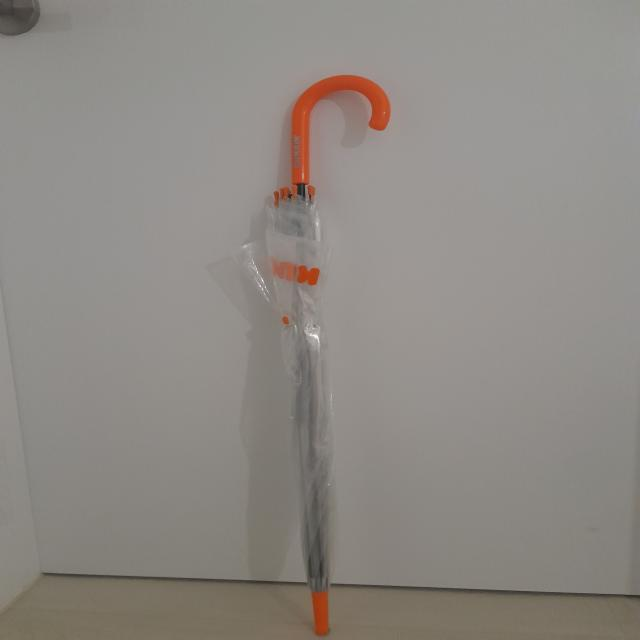umbrella: (243, 75, 390, 635)
